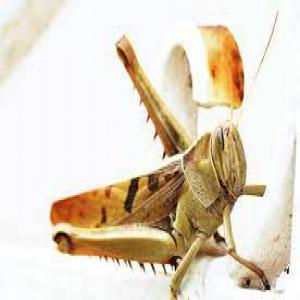locust: (57, 93, 265, 263)
